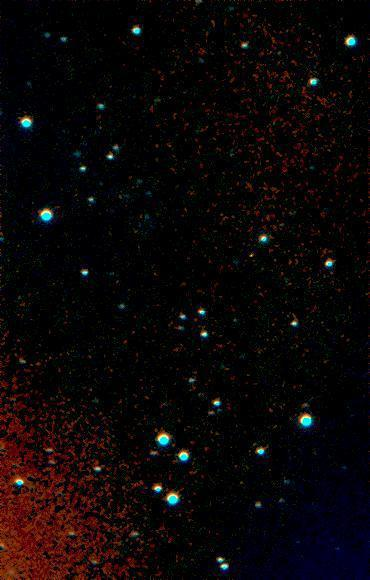star: (102, 181, 132, 211)
